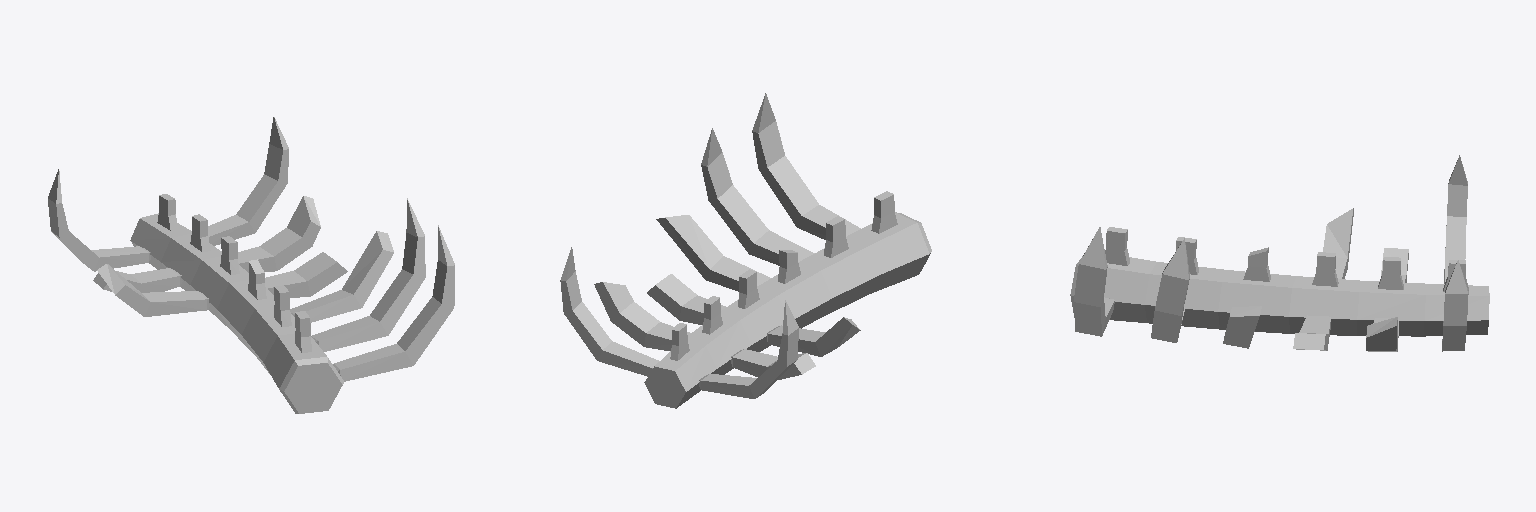
The model's file is Bone_12.obj.
3 views of the same model, side by side, from view 1: azimuth 30°, elevation 25°; view 2: azimuth 150°, elevation 25°; view 3: azimuth 270°, elevation 25° (orthographic).
Visible parts, largest first — view 1: Bone_12; view 2: Bone_12; view 3: Bone_12.
Part boxes in pixels (bbox=[...]): Bone_12: bbox=[48, 117, 454, 413]; Bone_12: bbox=[560, 93, 931, 408]; Bone_12: bbox=[1070, 155, 1489, 351].
Size of the model in its own units: 107 by 63.11 by 159.